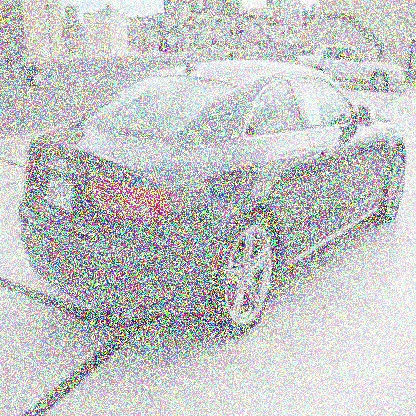Vehicle: (21, 64, 408, 339)
